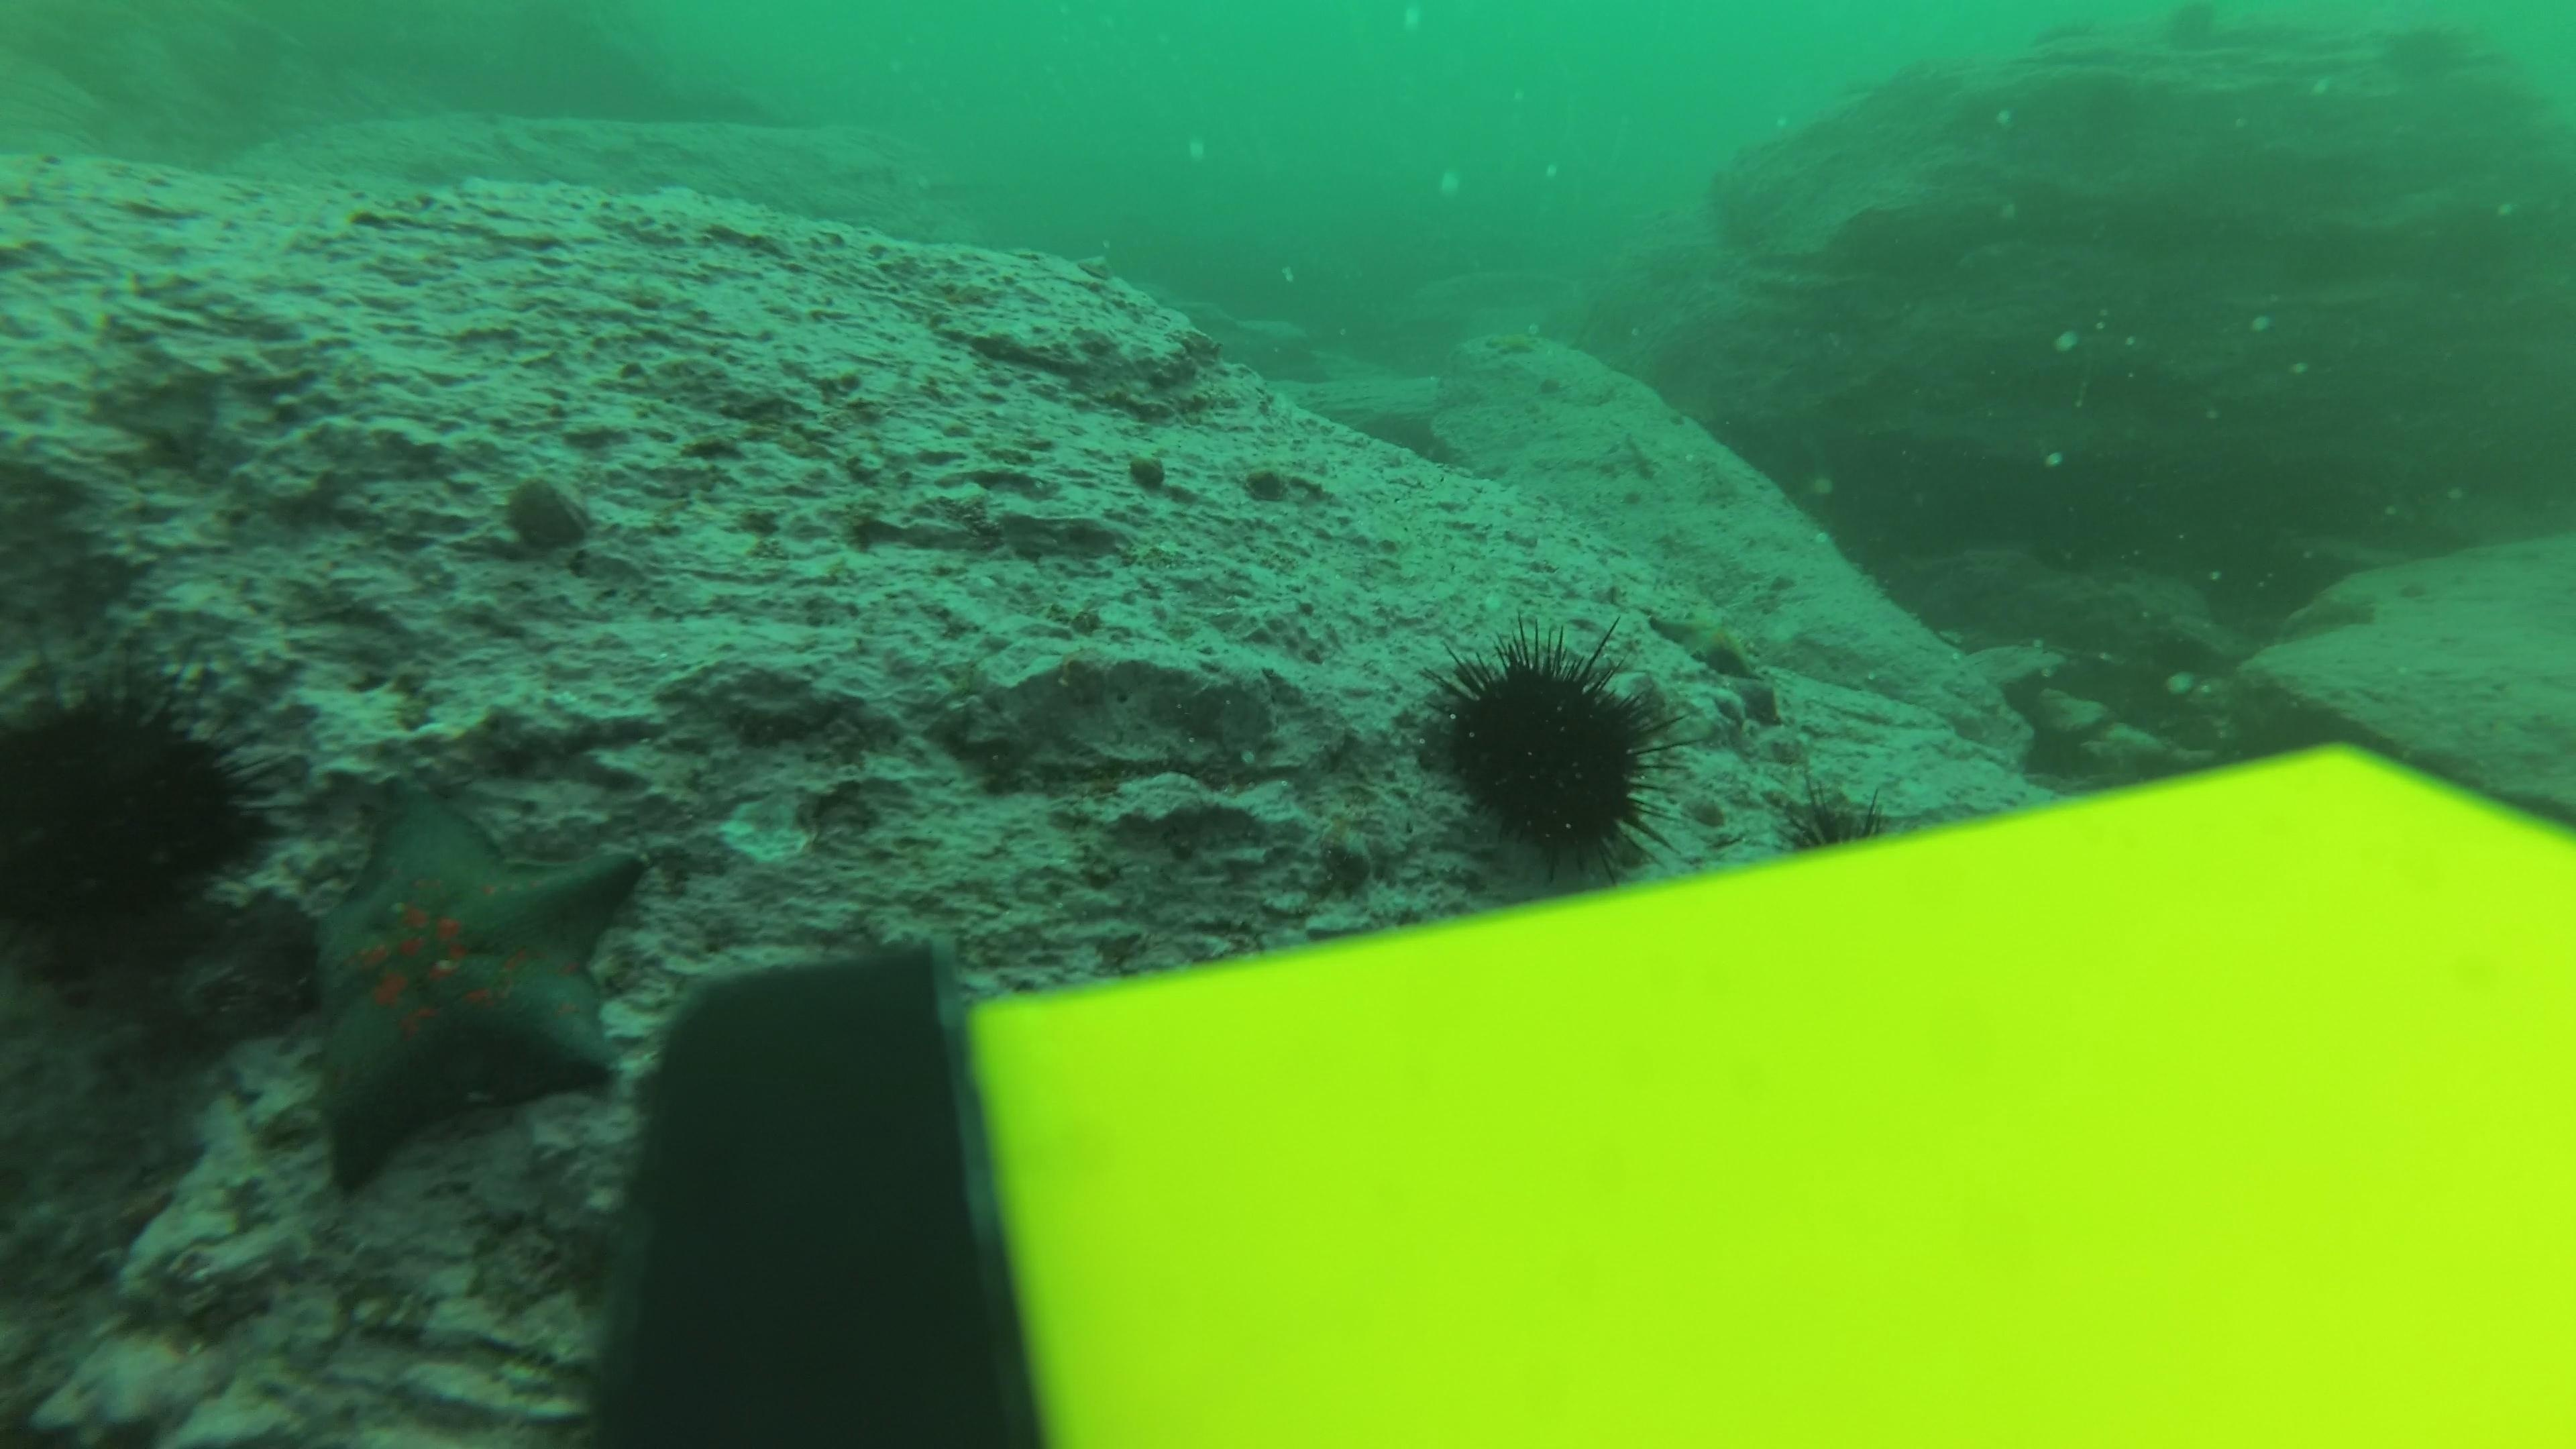echinus: (0, 656, 288, 947), (1414, 619, 1688, 879)
starfish: (283, 771, 656, 1200), (1642, 602, 1771, 683), (1468, 315, 1546, 361)
